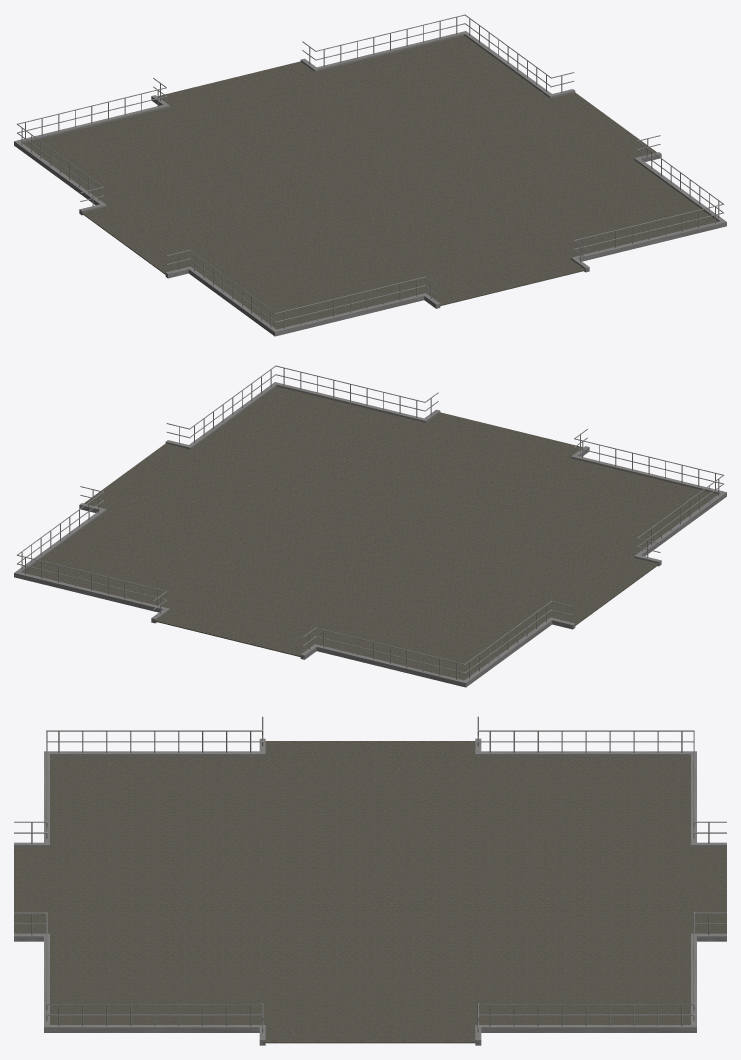
File: lab-platform-section.fbx
3 renders of one model, top to bottom at view 1: azimuth 30°, elevation 25°; view 2: azimuth 150°, elevation 25°; view 3: azimuth 270°, elevation 25°, orthographic. The views are drawn at different scales.
Parts seen in each view (by area): view 1: floor3 (×5), left4, left3, left5, left6, left8, left7, left2, left1; view 2: floor3 (×5), left7, left8, left6, left5, left3, left4, left2, left1; view 3: floor3 (×5), left2, left1, left6, left5, left3, left8, left4, left7.
Part boxes in pixels (bbox=[...]): floor3 (×5): bbox=[22, 35, 717, 329]; left4: bbox=[273, 294, 424, 336]; left3: bbox=[576, 220, 726, 261]; left5: bbox=[188, 268, 278, 335]; left6: bbox=[14, 140, 103, 205]; left8: bbox=[317, 31, 467, 70]; left7: bbox=[14, 105, 165, 146]; left2: bbox=[462, 31, 551, 96]; left1: bbox=[636, 159, 726, 226]; floor3 (×5): bbox=[23, 386, 718, 680]; left7: bbox=[316, 645, 466, 687]; left8: bbox=[14, 571, 164, 612]; left6: bbox=[462, 619, 552, 687]; left5: bbox=[637, 491, 726, 556]; left3: bbox=[273, 382, 423, 421]; left4: bbox=[575, 456, 726, 496]; left2: bbox=[14, 510, 104, 577]; left1: bbox=[189, 382, 278, 447]; floor3 (×5): bbox=[14, 741, 726, 1043]; left2: bbox=[481, 1025, 696, 1032]; left1: bbox=[44, 1025, 259, 1032]; left6: bbox=[481, 751, 696, 755]; left5: bbox=[44, 751, 259, 755]; left3: bbox=[44, 936, 49, 1032]; left8: bbox=[691, 936, 696, 1032]; left4: bbox=[44, 751, 49, 842]; left7: bbox=[691, 751, 696, 842].
Size of the model in its own units: 5950 by 256 by 5950.
